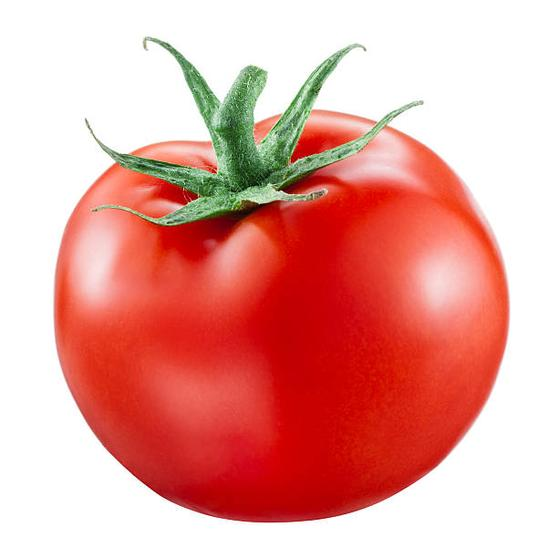tomato: (57, 108, 506, 523)
